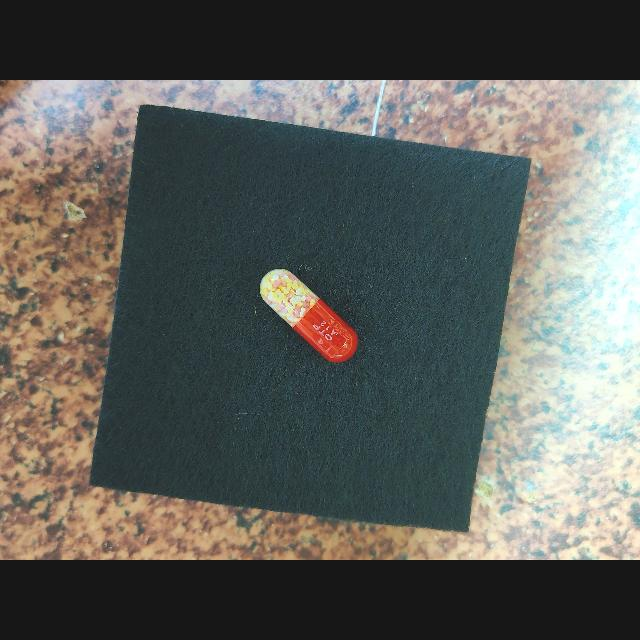Intact Capsule: (260, 269, 358, 363)
